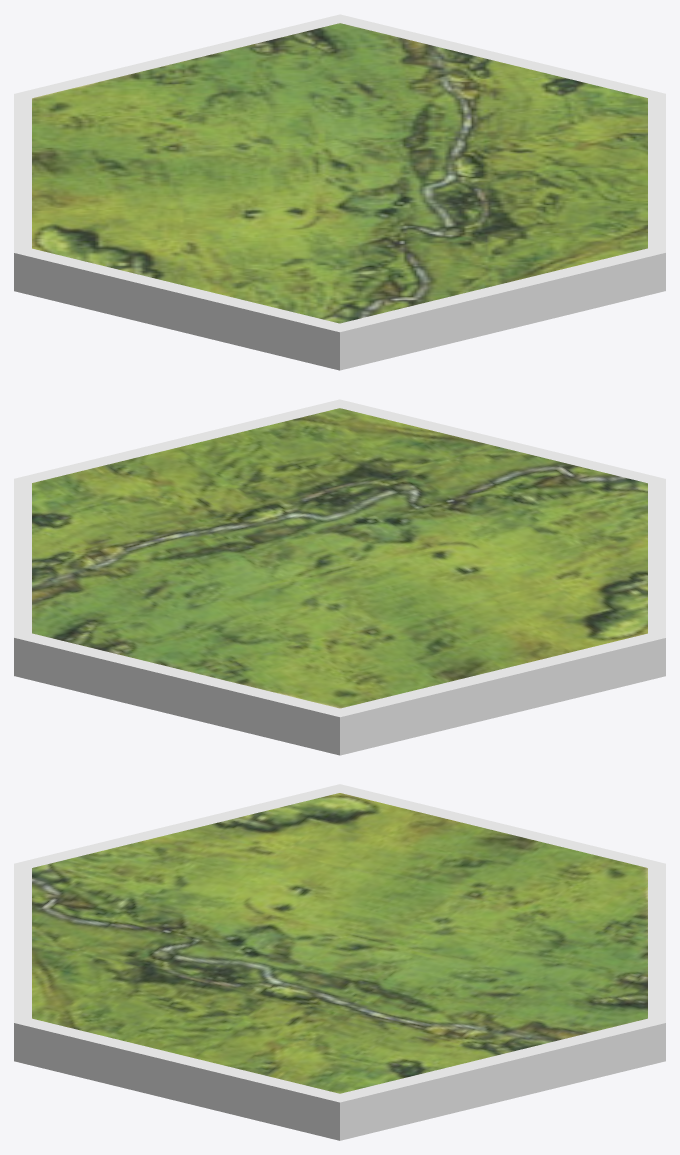
File: hex_sheep.glb
The picture shows the model from 3 angles, top to bottom: view 1: azimuth 30°, elevation 25°; view 2: azimuth 150°, elevation 25°; view 3: azimuth 270°, elevation 25°; orthographic projection.
Parts seen in each view (by area): view 1: hex_sheep; view 2: hex_sheep; view 3: hex_sheep.
Boxes of the visible parts, x1,y1,x2,y2 form: hex_sheep: (14,14,665,370); hex_sheep: (14,399,665,755); hex_sheep: (14,784,665,1140).
Size of the model in its own units: 0.089 by 0.005 by 0.077.
2 materials, 1 textured.
